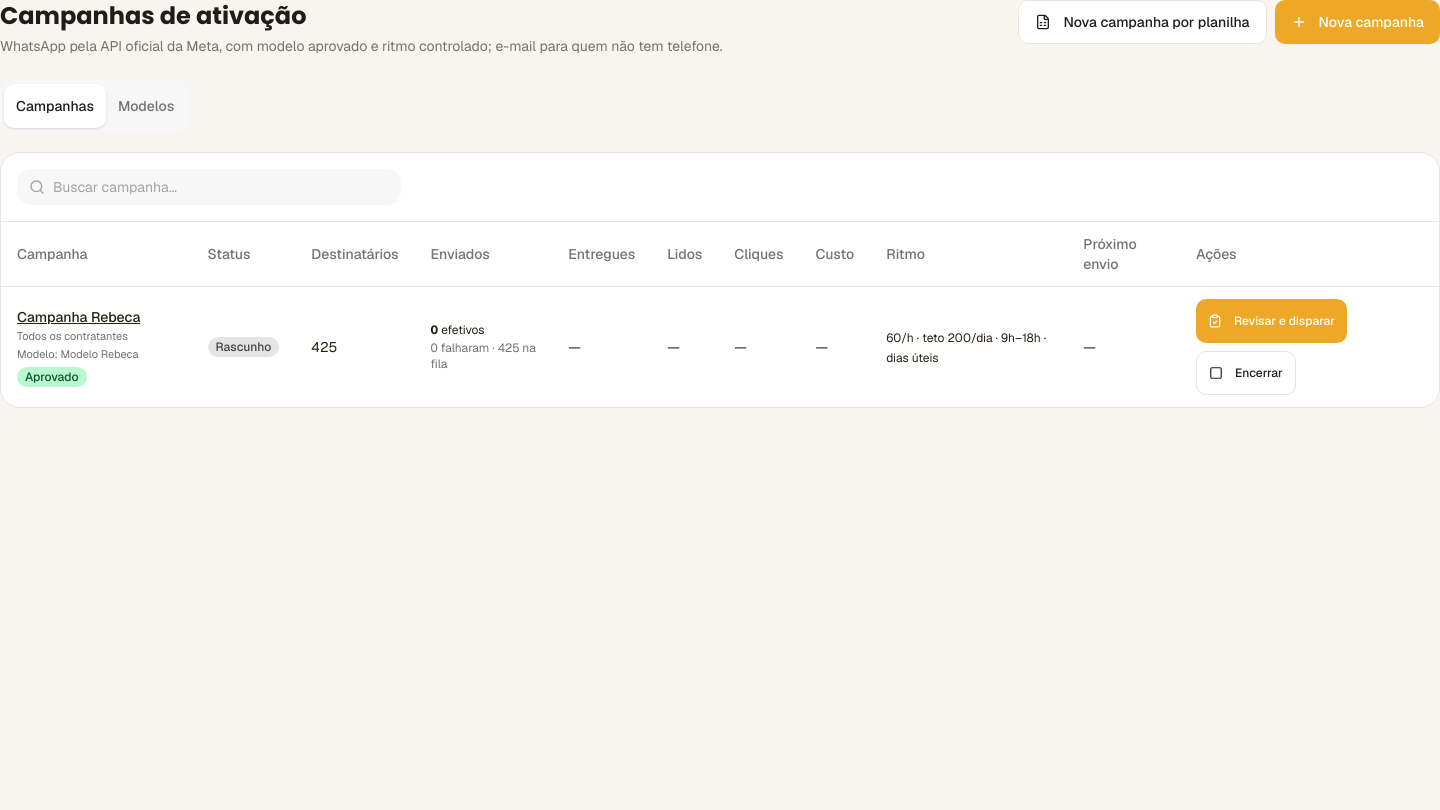
it: CampanhasPage › rascunho: 'Revisar e disparar' abre o resumo da campanha (passo 4)
Click the button "Revisar e disparar": (1272, 321) x1=1196 y1=299 x2=1347 y2=343
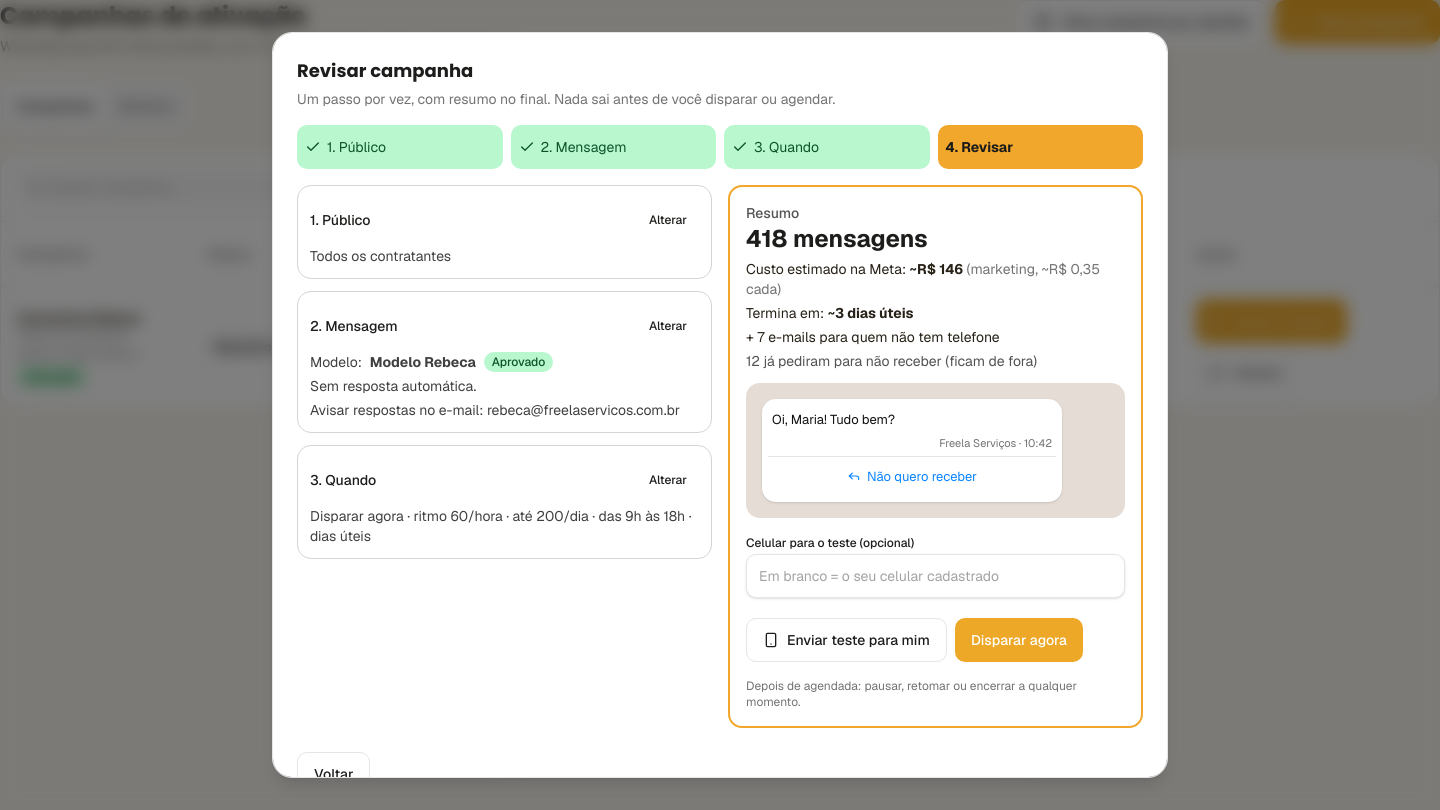
Now the heading "Revisar campanha" is shown, box x1=297 y1=58 x2=473 y2=83
